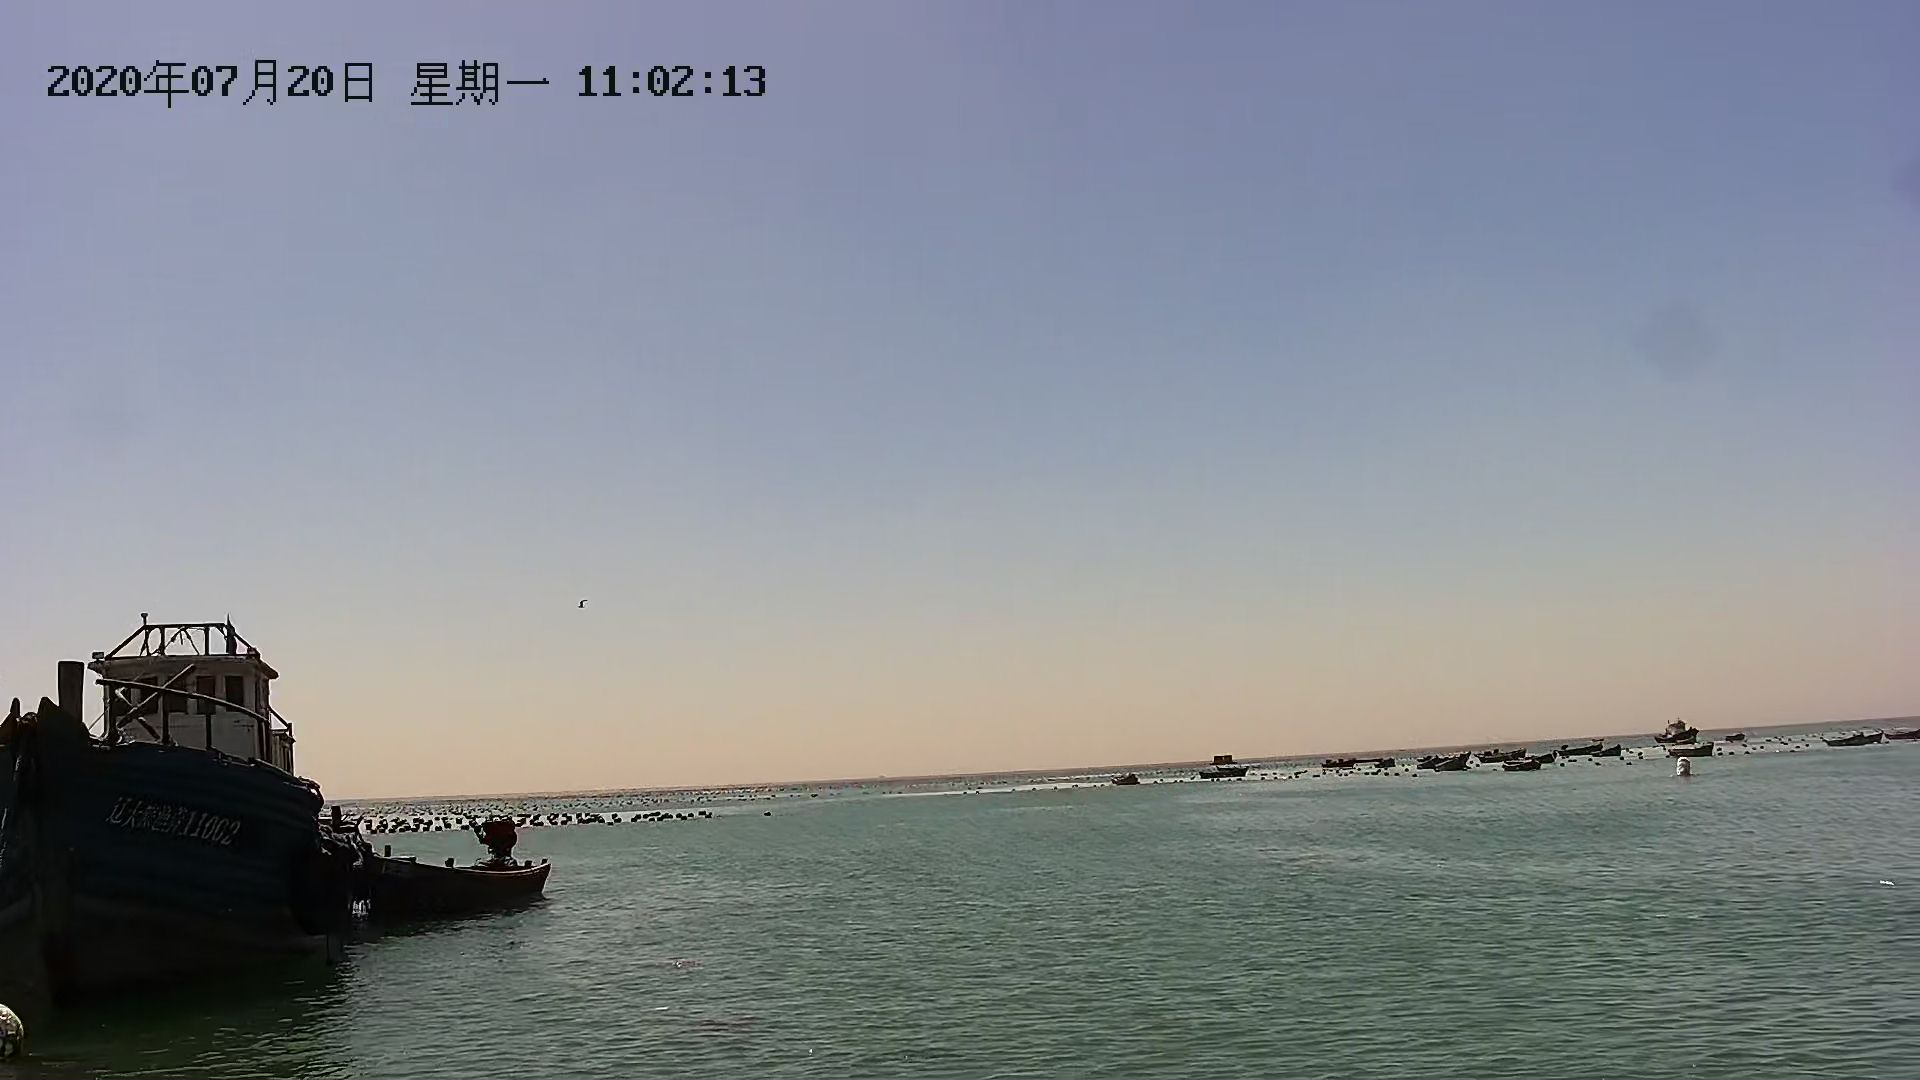boat: (319, 831, 558, 911), (1410, 754, 1473, 774), (1667, 741, 1718, 761), (1197, 764, 1249, 783), (1559, 740, 1601, 760), (1818, 736, 1890, 746), (1319, 756, 1364, 770), (1501, 760, 1545, 773)
rubbish: (1665, 753, 1702, 782)
ship: (1, 626, 339, 916)
